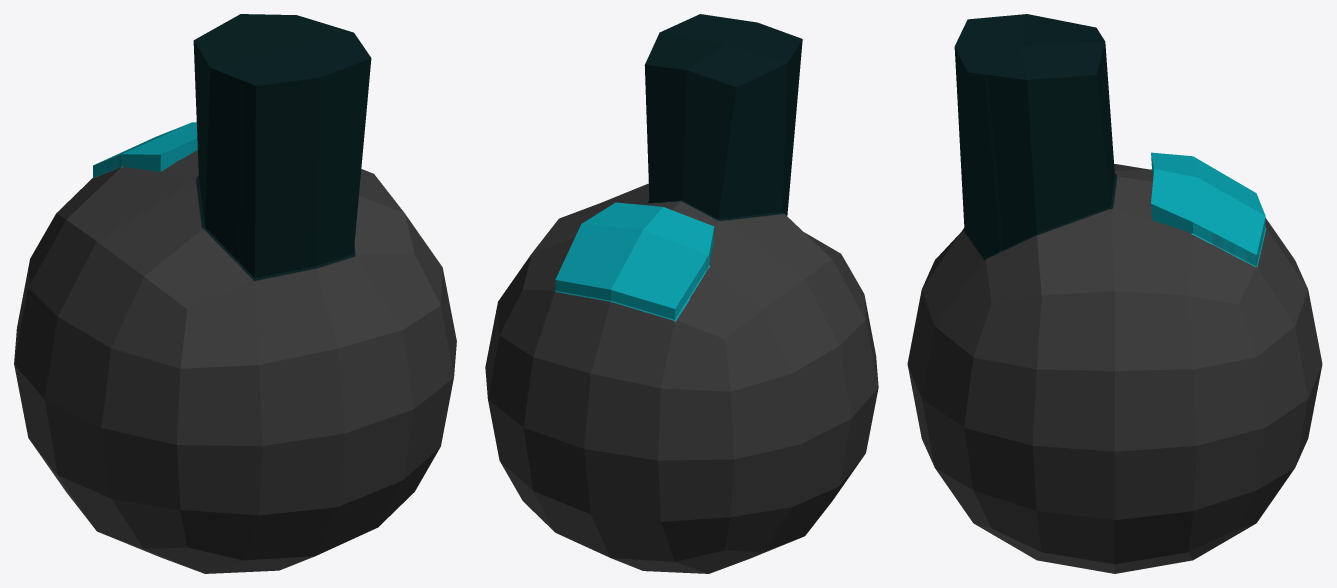
The model's file is rbsDrone.fbx.
3 views of the same model, side by side, from view 1: azimuth 30°, elevation 25°; view 2: azimuth 150°, elevation 25°; view 3: azimuth 270°, elevation 25° (orthographic). The views are drawn at different scales.
Parts seen in each view (by area): view 1: Cube; view 2: Cube; view 3: Cube.
Boxes of the visible parts, x1,y1,x2,y2 form: Cube: (14,14,456,573); Cube: (485,14,878,573); Cube: (907,14,1322,573).
Size of the model in its own units: 168 by 228 by 168.
